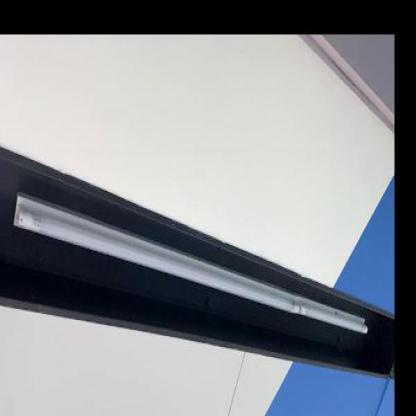light_off: (3, 142, 372, 356)
